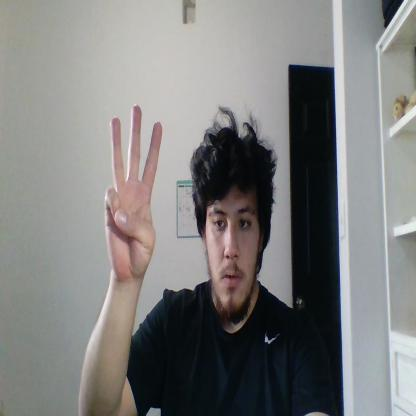W: (105, 105, 162, 281)
